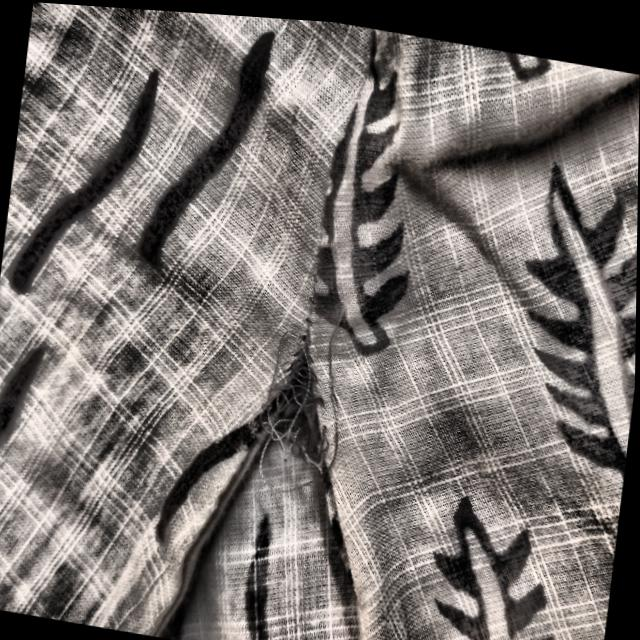Stitch: (225, 264, 365, 512)
